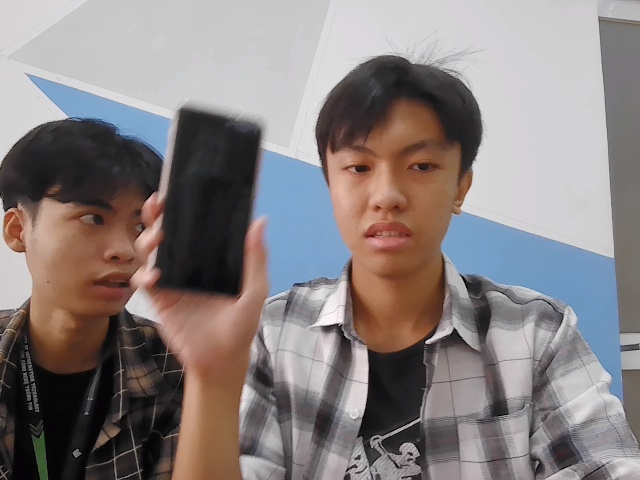human: (308, 50, 479, 285), (4, 115, 170, 328)
phone: (146, 89, 263, 307)
